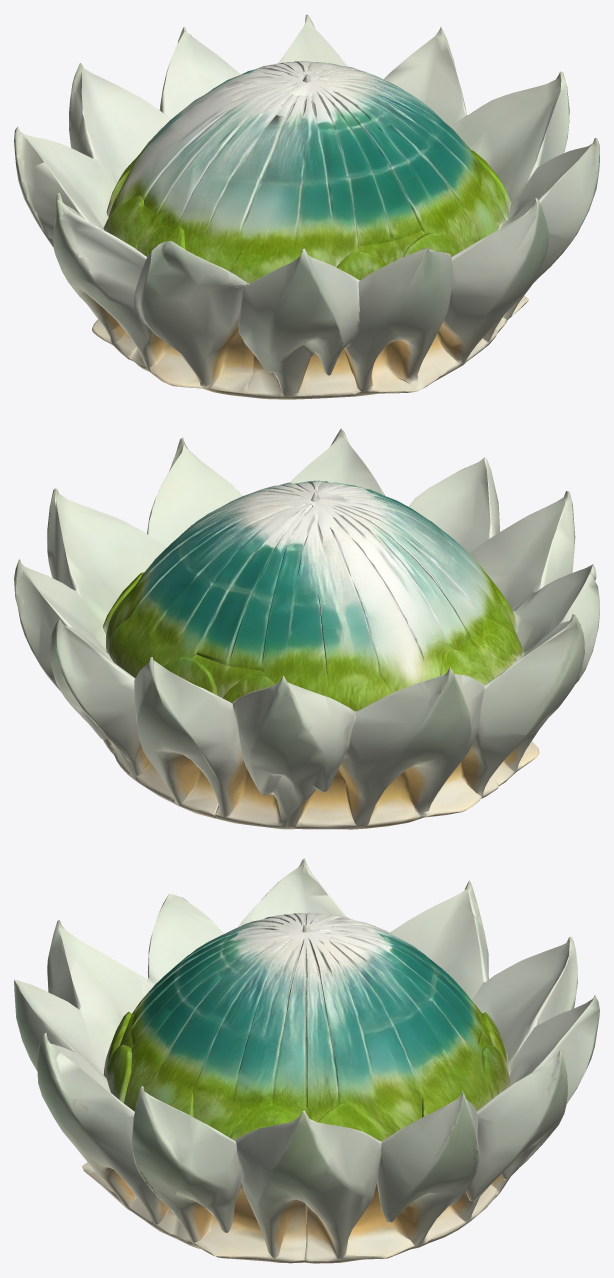
File: lotus-pavilion.glb
3 views of the same model, one above another, from view 1: azimuth 30°, elevation 25°; view 2: azimuth 150°, elevation 25°; view 3: azimuth 270°, elevation 25° (orthographic). The views are drawn at different scales.
Parts seen in each view (by area): view 1: model; view 2: model; view 3: model.
Boxes of the visible parts, x1,y1,x2,y2 form: model: (14,14,599,399); model: (14,429,599,829); model: (14,858,599,1263).
Size of the model in its own units: 3.9 by 1.81 by 3.78.
1 material, 1 textured.
